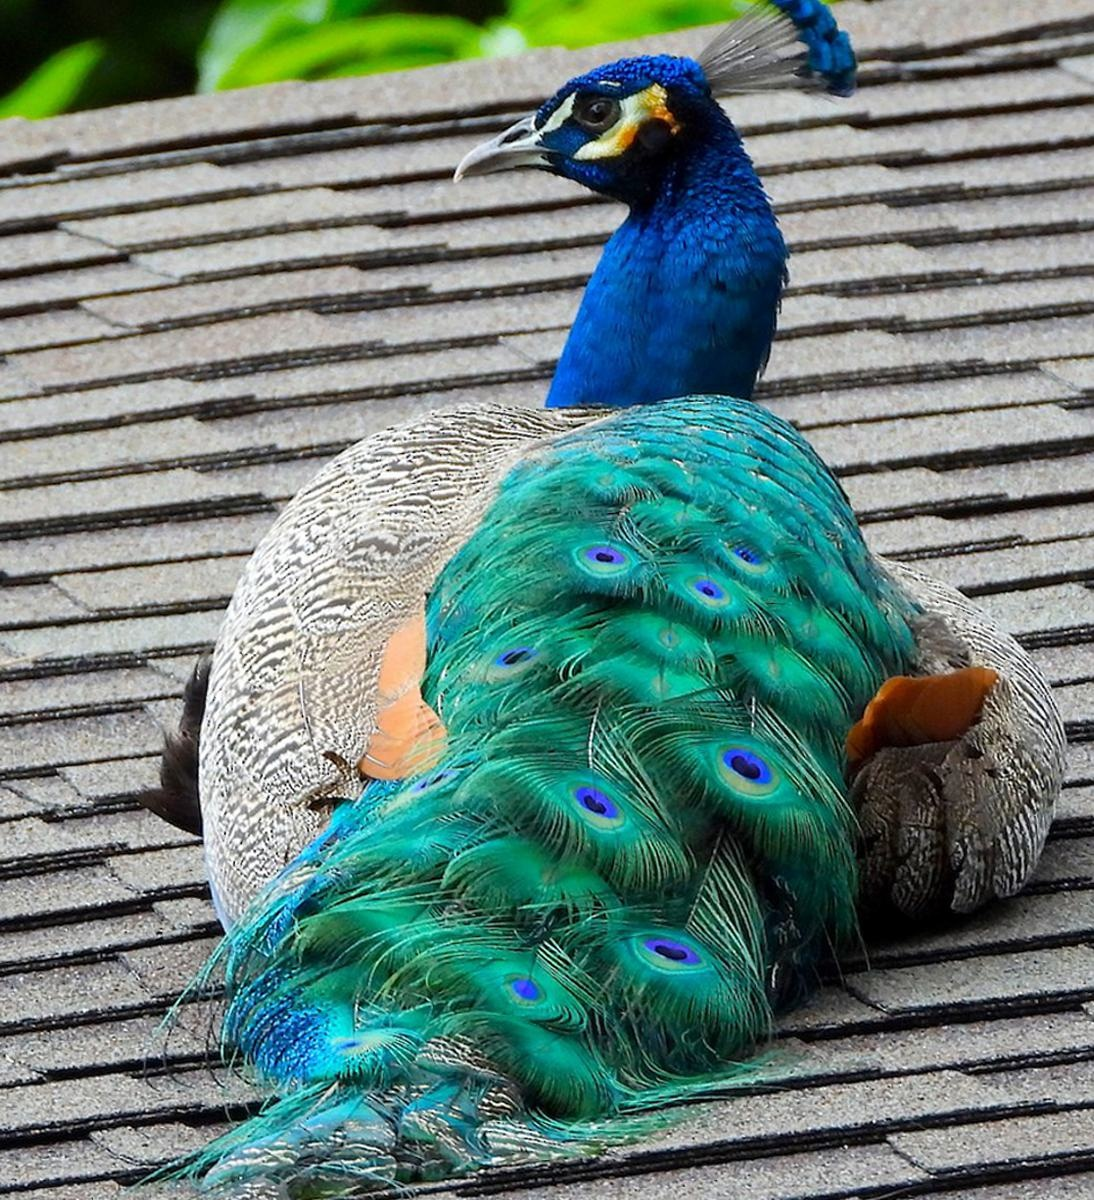peacock: (140, 5, 1006, 1200)
